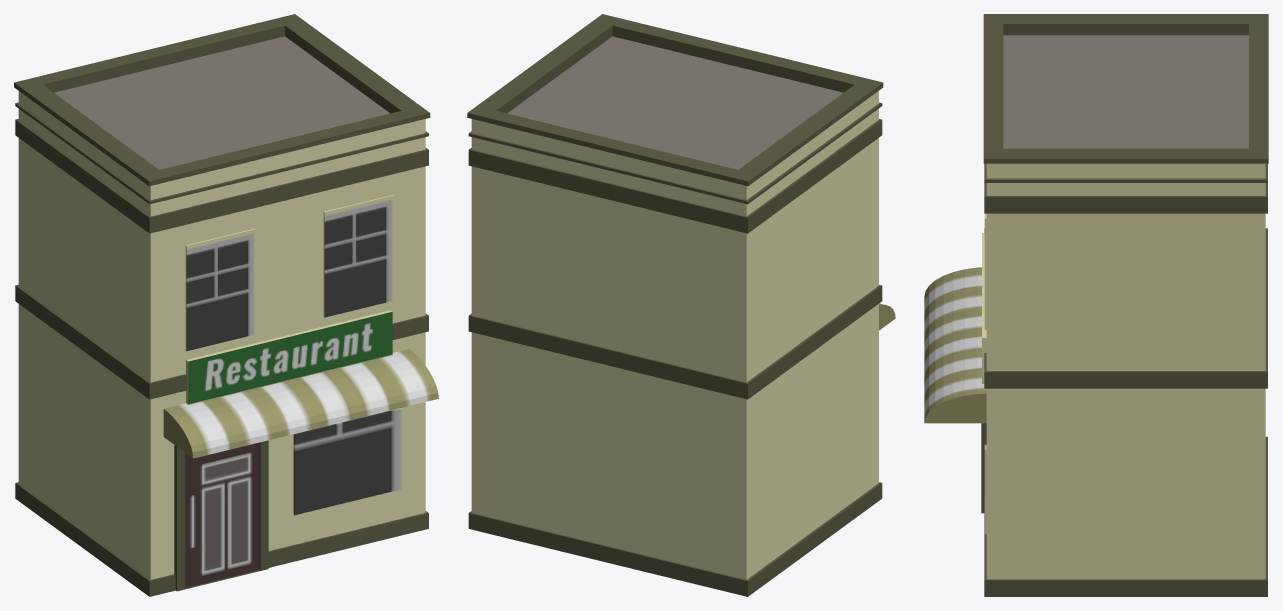
The model's file is Building_Restaurant.fbx.
3 views of the same model, side by side, from view 1: azimuth 30°, elevation 25°; view 2: azimuth 150°, elevation 25°; view 3: azimuth 270°, elevation 25° (orthographic). The views are drawn at different scales.
Visible parts, largest first — view 1: Building_Restaurant1; view 2: Building_Restaurant1; view 3: Building_Restaurant1.
Part boxes in pixels (x1,y1,x2,y2): Building_Restaurant1: (14, 14, 438, 596); Building_Restaurant1: (467, 14, 895, 596); Building_Restaurant1: (924, 14, 1268, 596).
Size of the model in its own units: 736 by 1041 by 741.
